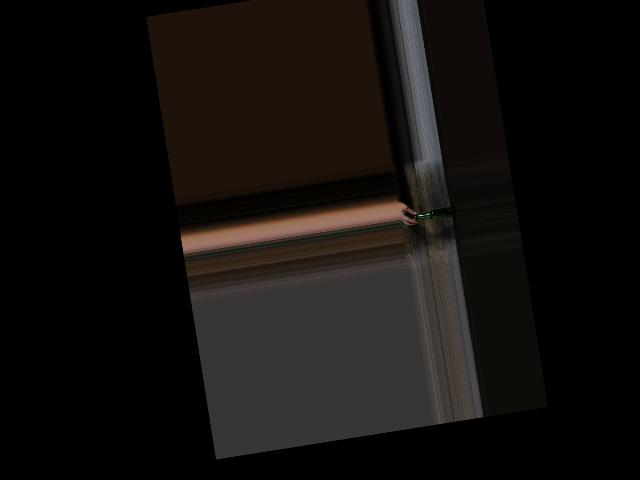beer: (414, 206, 456, 222)
